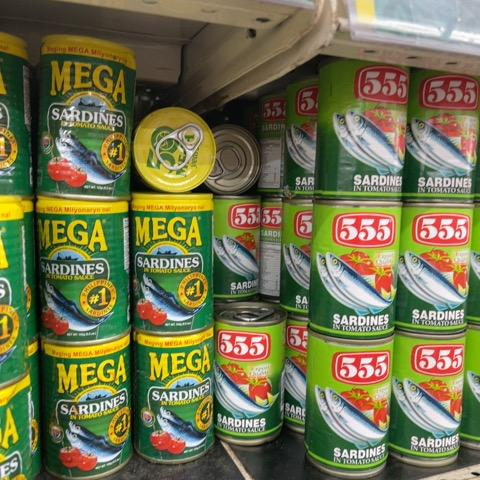canned-goods: (36, 25, 135, 202), (30, 189, 137, 348), (36, 327, 137, 480), (305, 322, 395, 480), (316, 55, 414, 198), (311, 192, 404, 340), (126, 317, 216, 465), (130, 189, 215, 335), (392, 323, 470, 474), (212, 297, 284, 445), (399, 200, 476, 333), (405, 67, 480, 200), (133, 104, 215, 191), (281, 189, 329, 321), (276, 306, 323, 438), (285, 72, 334, 198), (211, 191, 263, 305), (205, 113, 263, 197)
